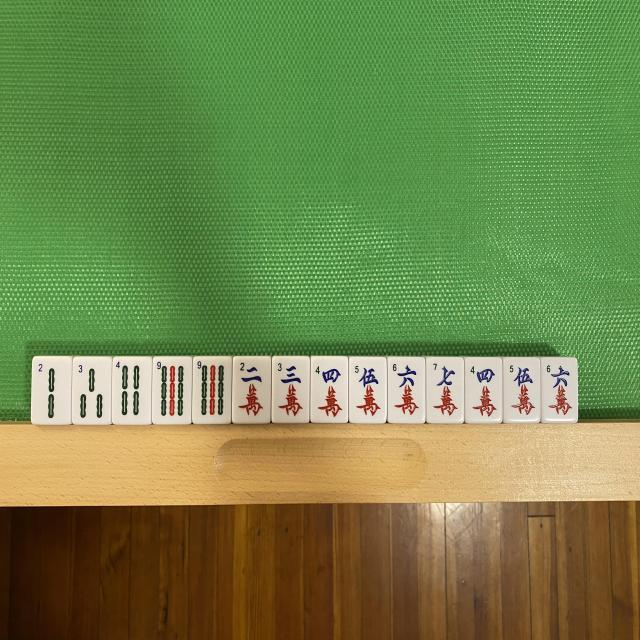sb2: (33, 356, 71, 424)
sb3: (72, 356, 111, 424)
sb4: (113, 358, 151, 423)
sb9: (153, 356, 191, 424), (192, 357, 231, 423)
sc2: (232, 357, 271, 423)
sc3: (272, 356, 309, 422)
sc4: (465, 358, 503, 424), (312, 356, 348, 422)
sc5: (503, 358, 541, 422), (348, 358, 386, 422)
sc6: (387, 358, 425, 423), (541, 358, 578, 422)
sc7: (426, 357, 464, 422)
